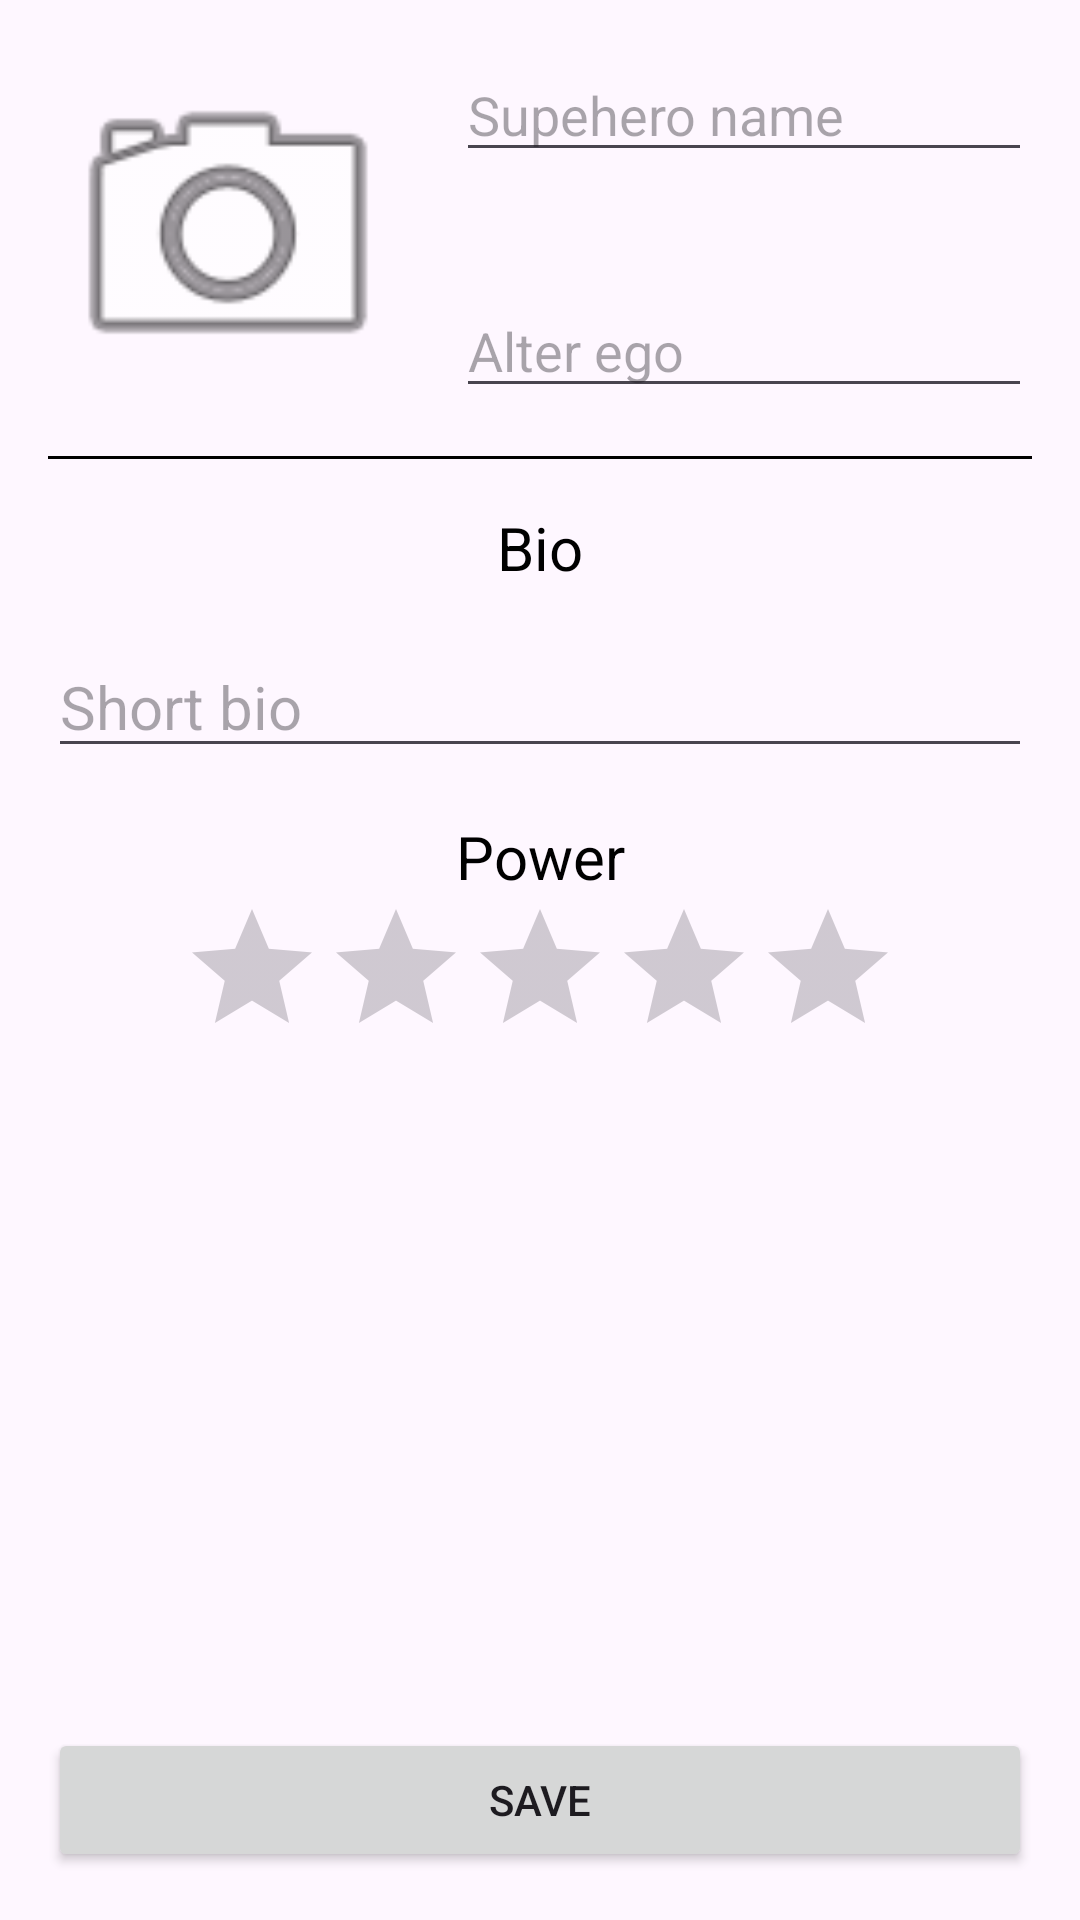

Icon bounding boxes for this 1080px×1920px phone screenshot, format Rect(x1, y1, x2, y2):
camera: Rect(89, 111, 367, 333)
